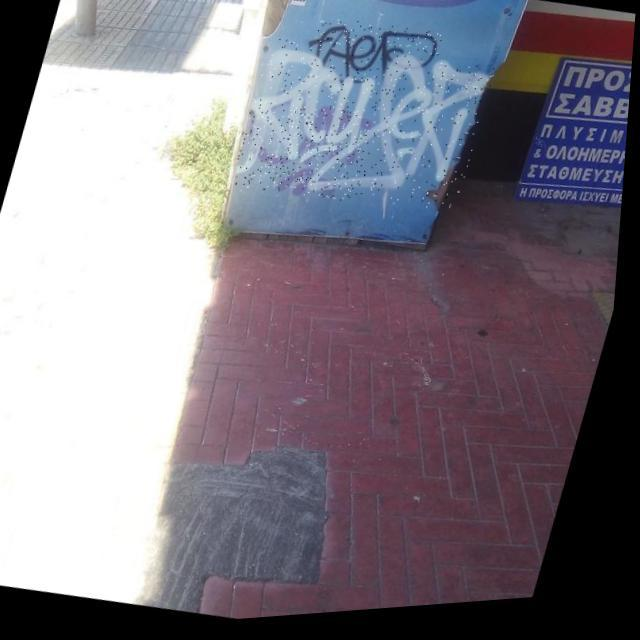-: (231, 27, 499, 234), (230, 94, 380, 215), (298, 12, 446, 103)
